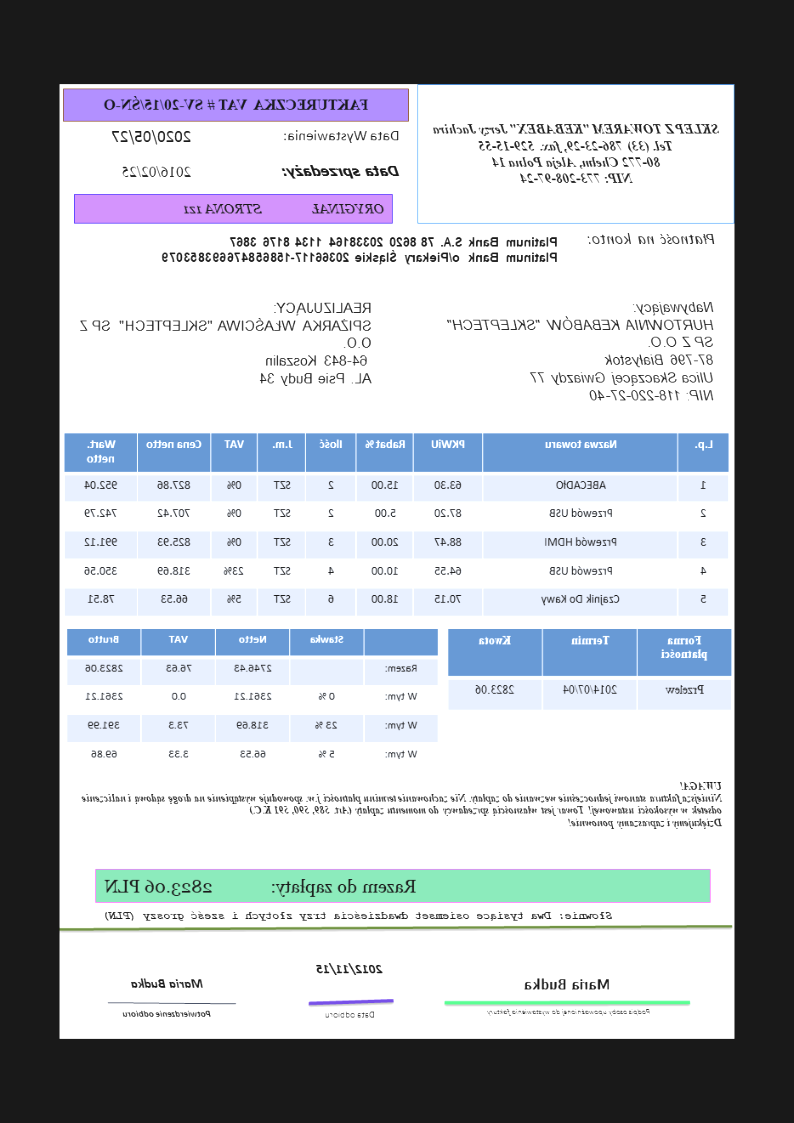Table: (63, 430, 731, 620), (65, 627, 441, 774), (445, 627, 733, 712)
TextBox: (80, 777, 724, 831), (444, 298, 716, 403), (77, 299, 375, 386), (432, 118, 723, 190), (157, 233, 559, 268), (103, 873, 421, 901), (103, 908, 617, 923), (98, 92, 370, 116), (181, 200, 387, 218), (587, 230, 717, 247), (281, 127, 404, 144), (280, 164, 402, 180), (483, 1006, 654, 1017), (109, 126, 194, 147), (520, 975, 614, 993), (120, 1006, 213, 1020), (128, 976, 207, 991), (120, 163, 193, 179), (313, 961, 386, 976), (320, 1007, 378, 1021)
